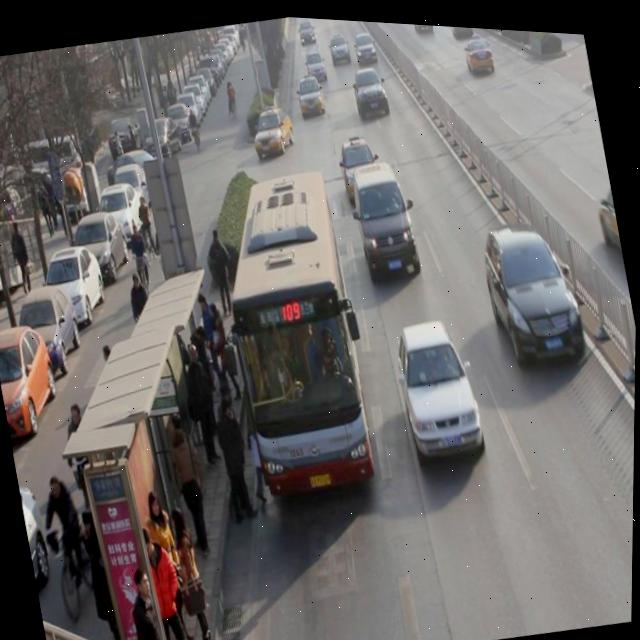car: (476, 204, 592, 369), (390, 309, 490, 461), (336, 127, 384, 199), (250, 100, 298, 159), (351, 60, 391, 117), (462, 24, 497, 72), (295, 69, 327, 115), (353, 26, 380, 64), (303, 44, 329, 82), (327, 28, 353, 64), (447, 21, 474, 34)
truck: (347, 154, 424, 278)
van: (205, 159, 383, 498)
